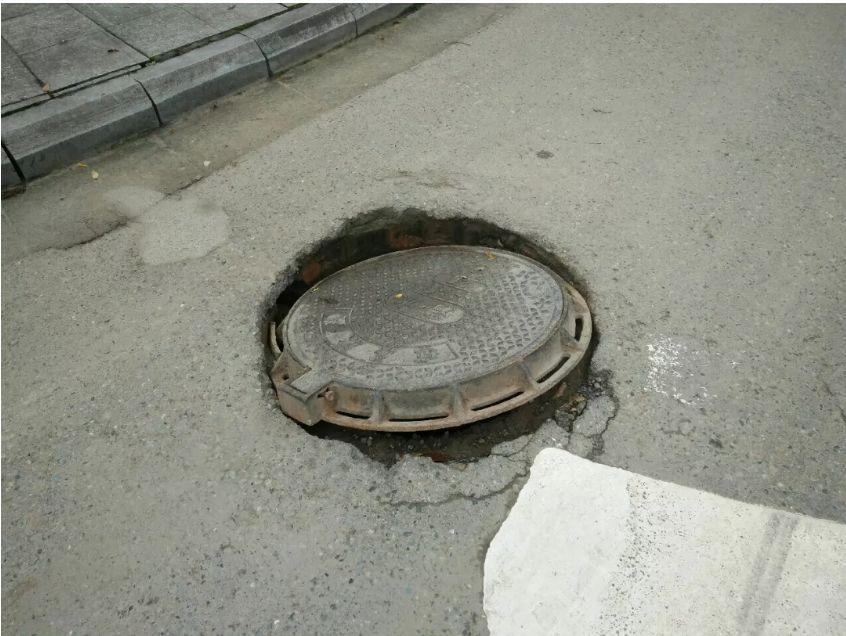wellcover: (239, 167, 611, 484)
